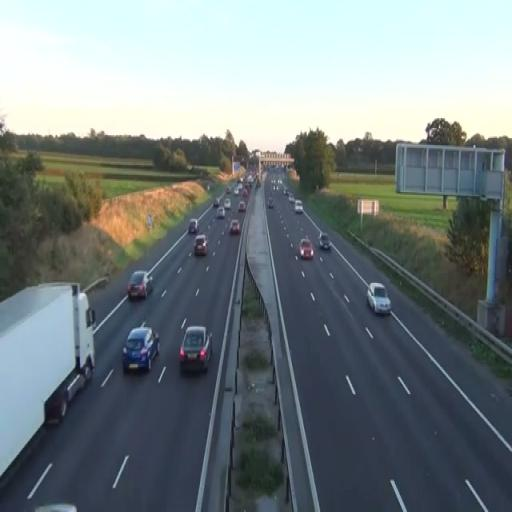Car: (122, 326, 160, 374), (179, 324, 212, 374), (366, 282, 391, 316), (127, 270, 154, 300), (194, 234, 208, 257), (300, 239, 314, 260), (318, 232, 331, 250), (230, 220, 240, 235)
Truck: (0, 282, 96, 479)
